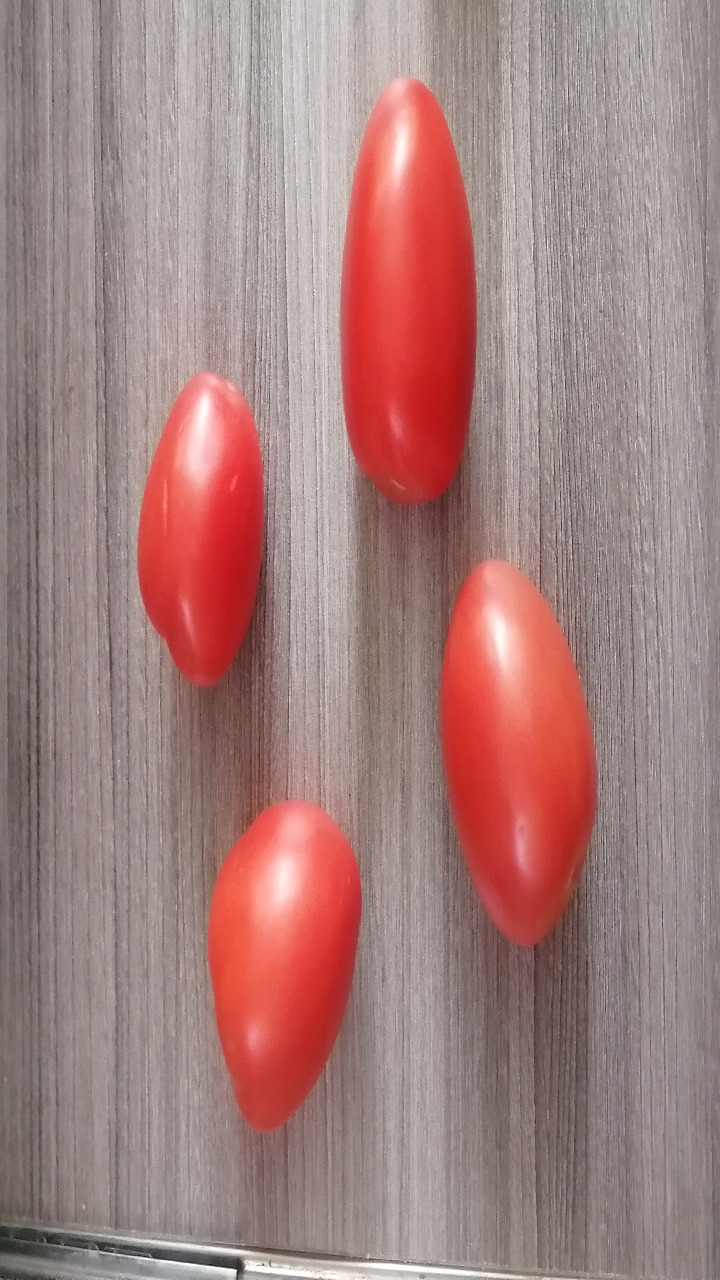tomateRojo: (414, 540, 626, 968), (311, 52, 498, 535), (164, 782, 358, 1143), (118, 345, 297, 708)
